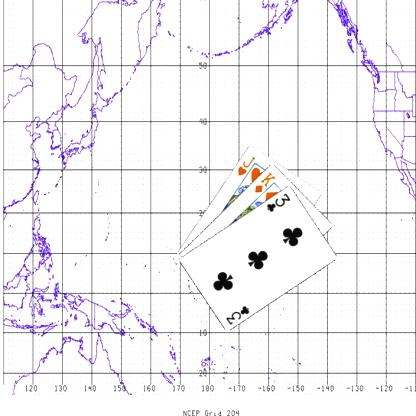3C: (264, 190, 292, 213), (223, 303, 250, 326)
JH: (234, 154, 256, 176)
KD: (252, 169, 277, 194)
